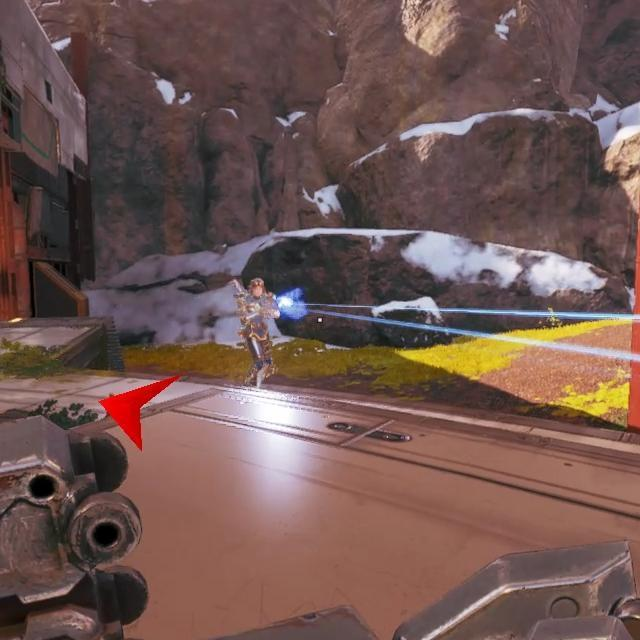avatar: (233, 278, 282, 387)
